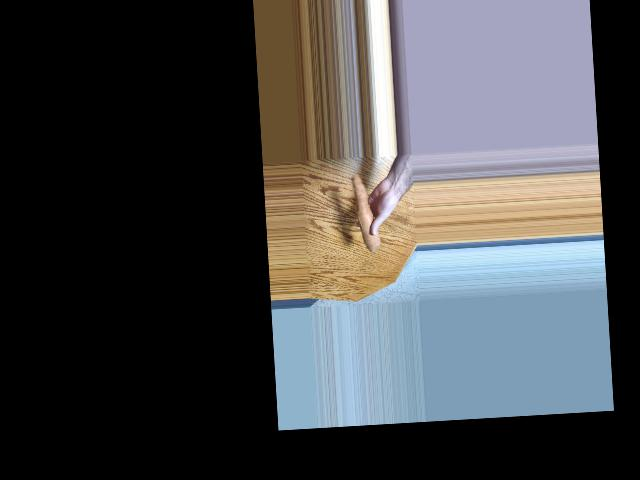sweet_potato: (354, 174, 374, 251)
